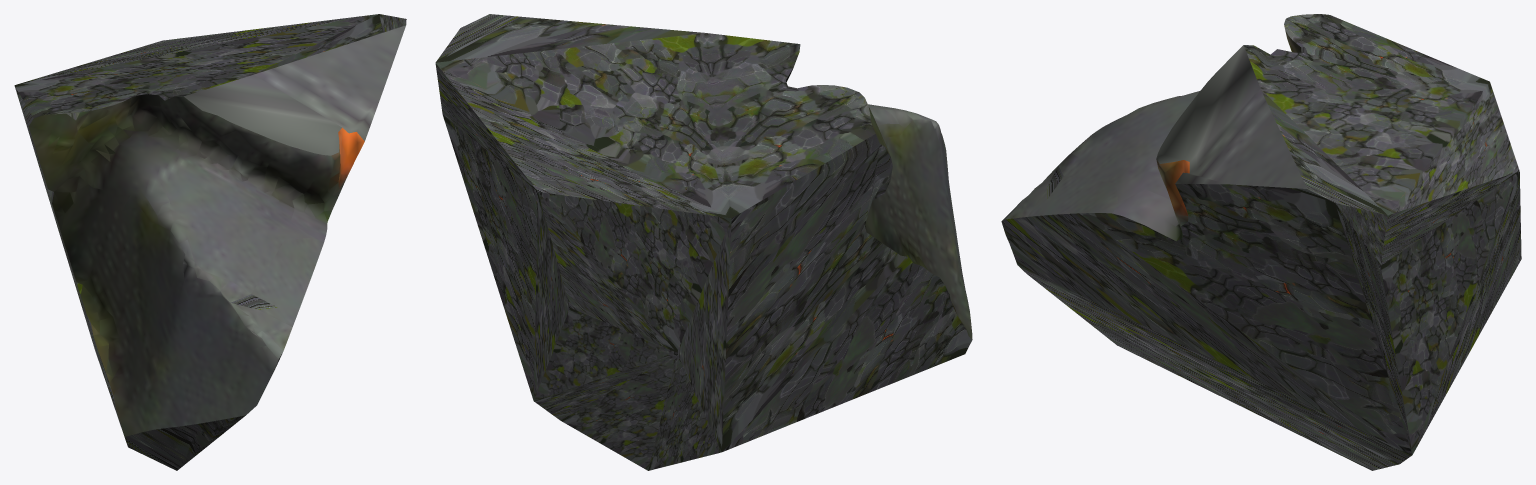
Rendered from Frag_29.gltf.
The picture shows the model from 3 angles, left to right: view 1: azimuth 30°, elevation 25°; view 2: azimuth 150°, elevation 25°; view 3: azimuth 270°, elevation 25°; orthographic projection. The views are drawn at different scales.
Parts seen in each view (by area): view 1: Frag_29; view 2: Frag_29; view 3: Frag_29.
Part boxes in pixels (bbox=[...]): Frag_29: bbox=[14, 14, 406, 470]; Frag_29: bbox=[435, 14, 972, 470]; Frag_29: bbox=[1001, 14, 1521, 470].
Bounding box in the file's own units: 0.265 × 0.2412 × 0.2948.
Materials: 1 (1 with a texture image).
